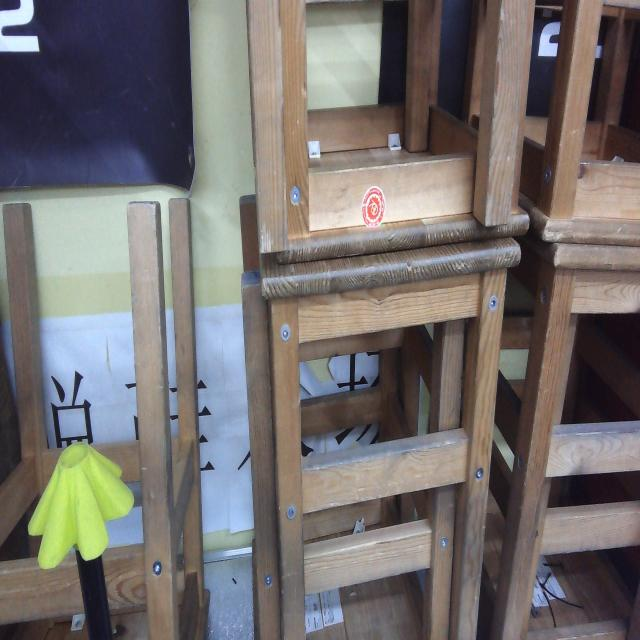Yellow-Stake-Head: (27, 442, 135, 570)
